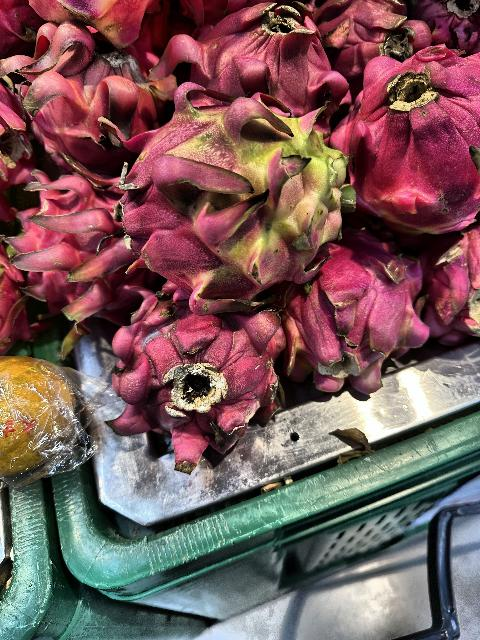buah-naga-belum-matang: (98, 104, 350, 288)
buah-naga-matang: (102, 294, 292, 466), (340, 38, 480, 232), (1, 39, 185, 168), (159, 0, 338, 120), (286, 227, 422, 383), (9, 188, 147, 334)
